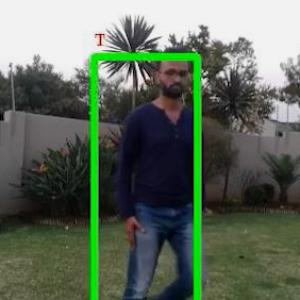follow: (115, 36, 209, 299)
